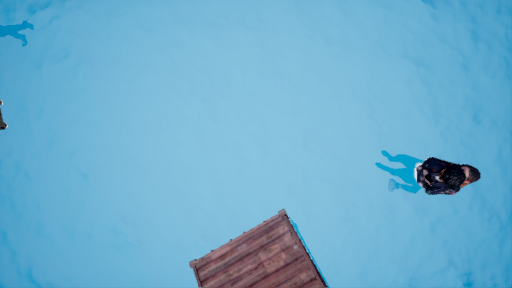person: (369, 146, 474, 203)
